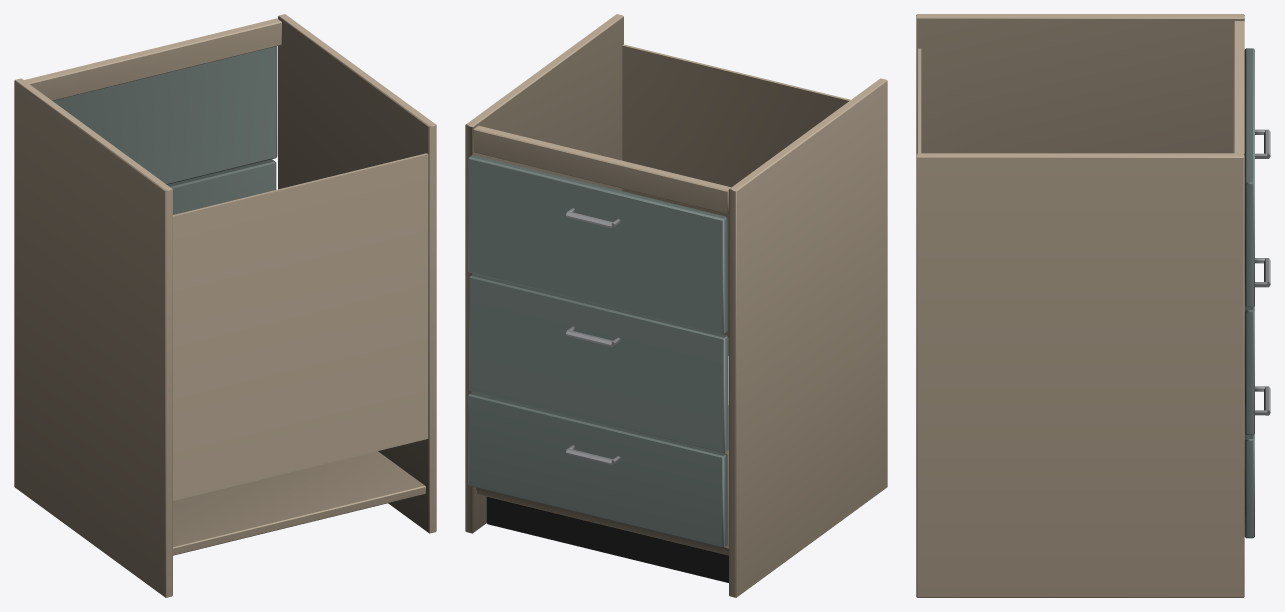
The model's file is counter_drawers.glb.
The picture shows the model from 3 angles, left to right: view 1: azimuth 30°, elevation 25°; view 2: azimuth 150°, elevation 25°; view 3: azimuth 270°, elevation 25°; orthographic projection. The views are drawn at different scales.
Visible parts, largest first — view 1: static; view 2: static; view 3: static.
Boxes of the visible parts, x1,y1,x2,y2 form: static: (14,14,436,597); static: (465,14,887,597); static: (916,14,1270,597).
Size of the model in its own units: 0.6 by 0.86 by 0.626.
